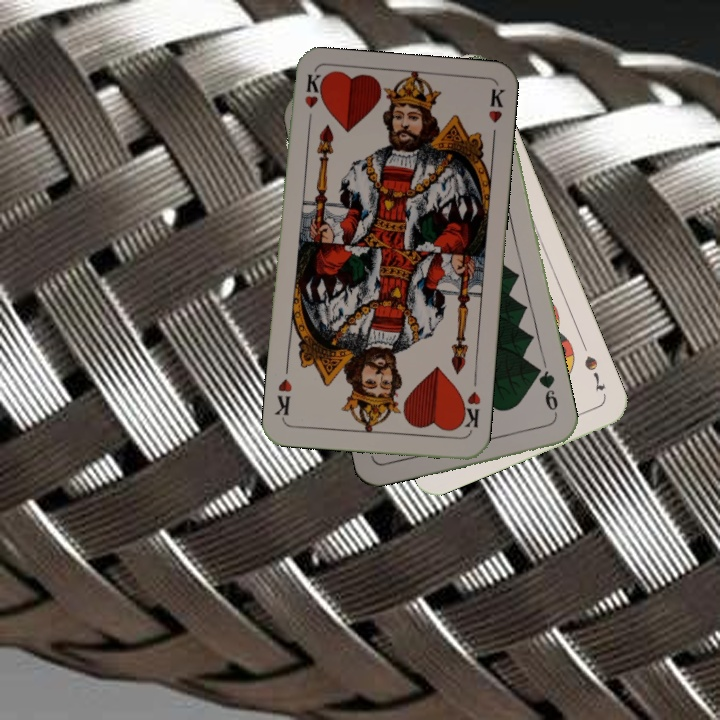G9: (532, 364, 561, 421)
HK: (300, 71, 323, 131), (455, 387, 483, 435)
S7: (580, 351, 608, 394)
